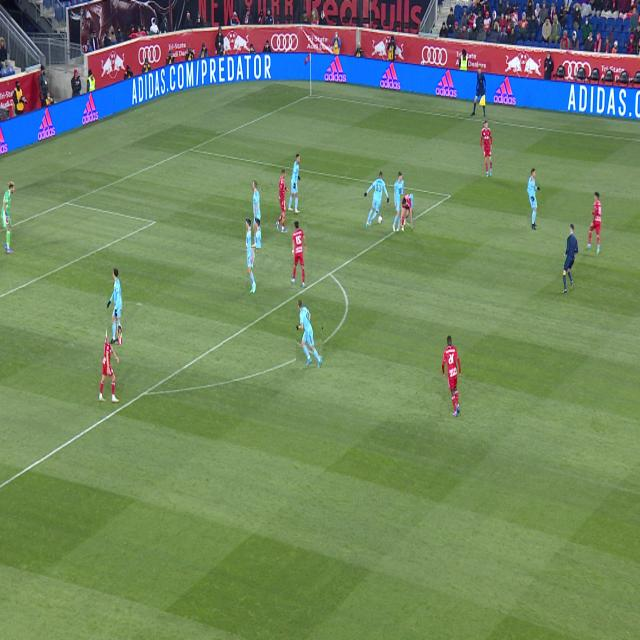football: (378, 215, 382, 224)
goalkeeper: (1, 181, 15, 254)
player: (297, 301, 322, 368), (442, 335, 461, 417), (99, 325, 119, 402), (364, 172, 389, 227), (107, 268, 122, 344), (291, 222, 307, 288), (587, 192, 602, 254), (276, 169, 289, 233), (527, 168, 540, 230), (288, 154, 300, 214), (393, 171, 404, 232), (251, 181, 261, 248), (247, 220, 256, 294), (481, 121, 492, 177), (400, 194, 413, 232)
referee: (562, 224, 578, 293)
